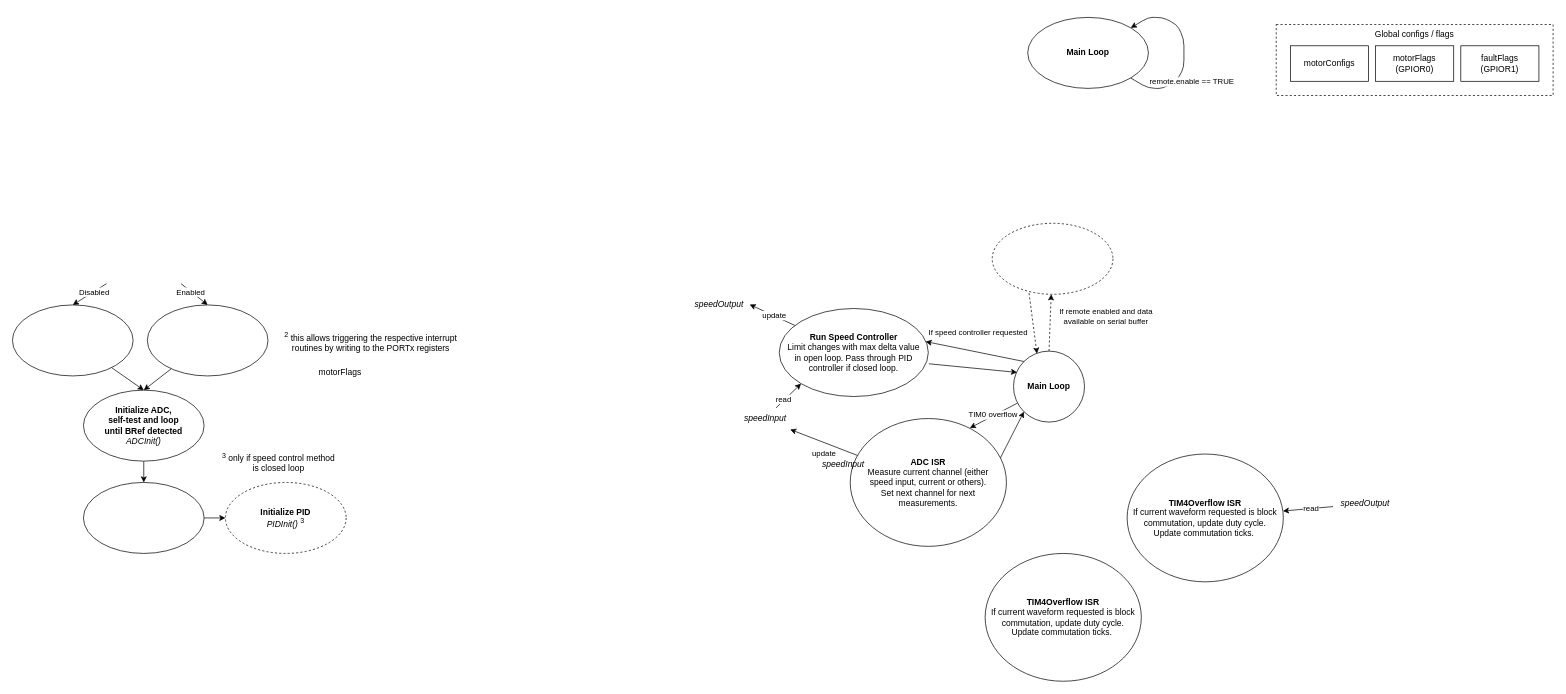
The diagram is 1566 pixels wide and 694 high, and some of its shapes have lost their labels. The shapes that lost their labels are listed below. From the top down, each one's centre as x and y in pixels, then its label:
At point (1052, 258): "Send data to SCPI parser and commands".
At point (72, 340): "Initialize ports PortsInit() Switches as inputs".
At point (207, 340): "Initialize ports PortsInit() Switches as outputs 2".
At point (143, 517): "Initialize remaining peripherals PLLInit(), T imersInit()".
